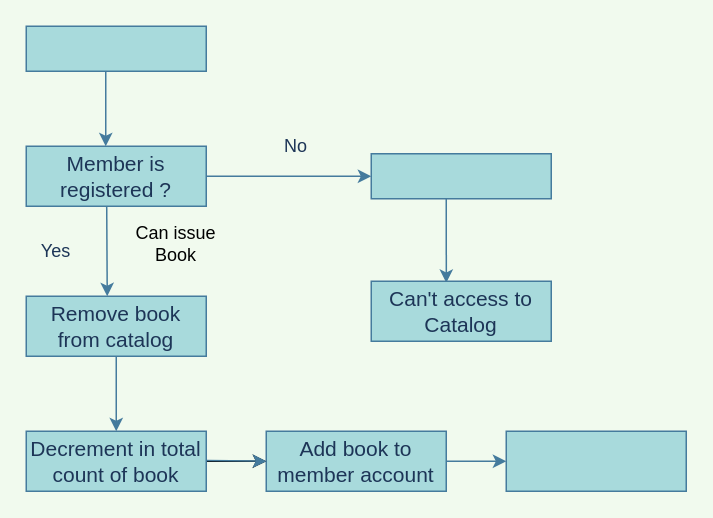
This 713x518 diagram has some shape labels left out. Here are the shapes that lost their labels. From the top down, the centre of each, then its label:
the point at 115,48: Start
the point at 460,175: No further action
the point at 595,460: Book issued successfully
